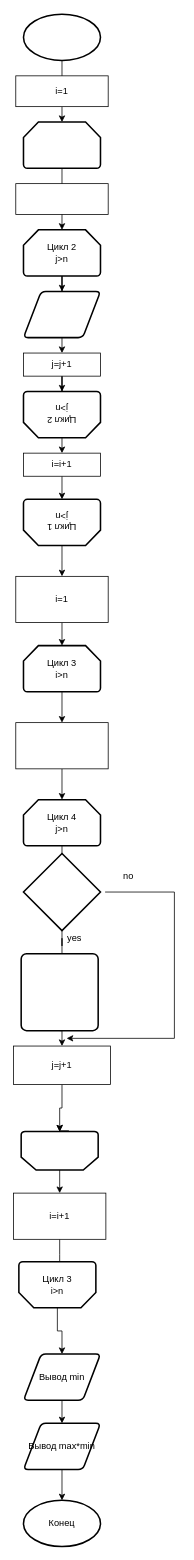
Image size: 194x1560. Some labels were removed from this diagram. The box of each missing label's shape, as (x1, y1, x2, y2) in pixels:
j=1: (15, 183, 108, 214)
j=2: (15, 722, 108, 769)
min=a[i,j]: (20, 952, 99, 1031)
Ввод a [i,j]: (22, 290, 101, 338)
если a [i,j]<min: (22, 852, 101, 931)
Начало: (22, 13, 101, 61)
Цикл 1 i>n: (22, 121, 101, 169)
Цикл 4 i>n: (20, 1130, 99, 1170)
